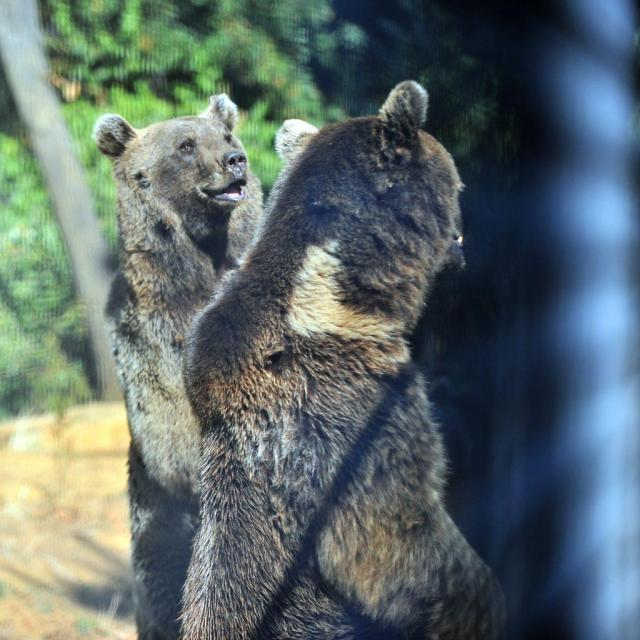Bear: (179, 81, 507, 640), (92, 94, 264, 640)
